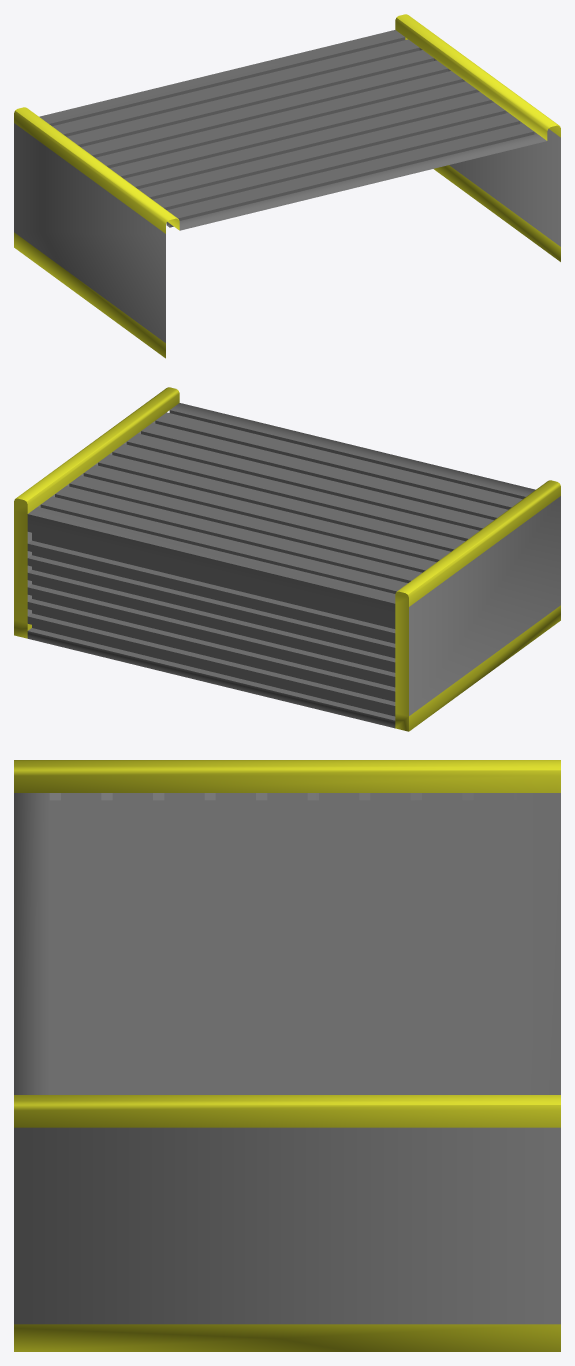
Rendered from TurnInConveyor.fbx.
The picture shows the model from 3 angles, top to bottom: view 1: azimuth 30°, elevation 25°; view 2: azimuth 150°, elevation 25°; view 3: azimuth 270°, elevation 25°; orthographic projection. The views are drawn at different scales.
Parts seen in each view (by area): view 1: Turn_In.001; view 2: Turn_In.001; view 3: Turn_In.001.
Part boxes in pixels (box(x1,y1,x2,y2)): Turn_In.001: box(14, 14, 560, 358); Turn_In.001: box(14, 387, 560, 731); Turn_In.001: box(14, 760, 560, 1351).
Bounding box in the file's own units: 300 × 100 × 200.
